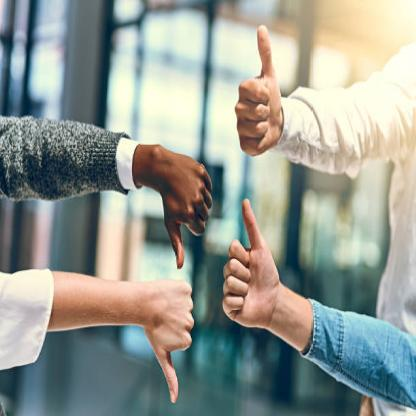thumb_down: (154, 130, 220, 270), (145, 277, 200, 411)
